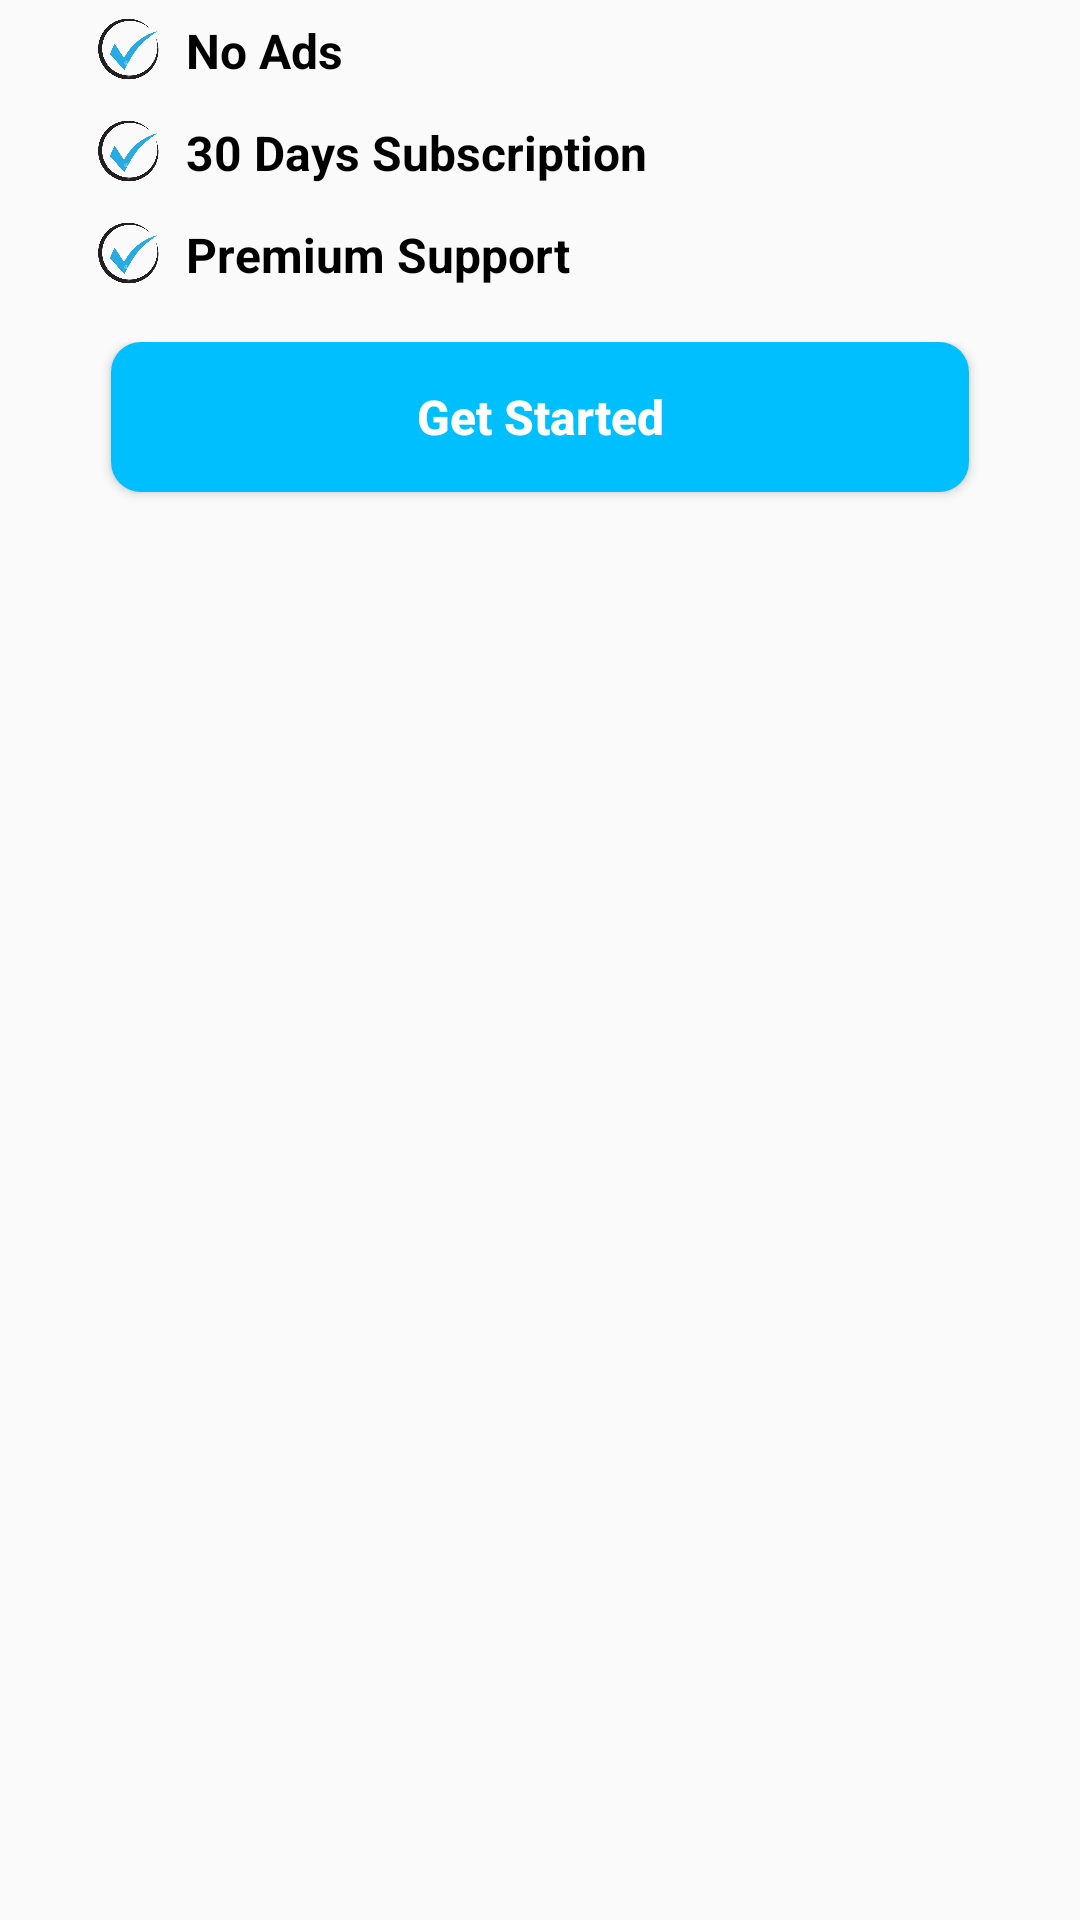

Screen size 1080px×1920px. Icon name, then its center in pixels as point (x, y):
tick: point (128, 49), point (128, 151), point (128, 253)
